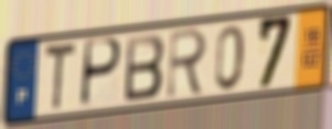0: (214, 23, 248, 92)
7: (255, 14, 294, 93)
B: (123, 32, 167, 104)
P: (77, 35, 124, 110)
R: (164, 25, 210, 102)
T: (42, 39, 78, 113)
